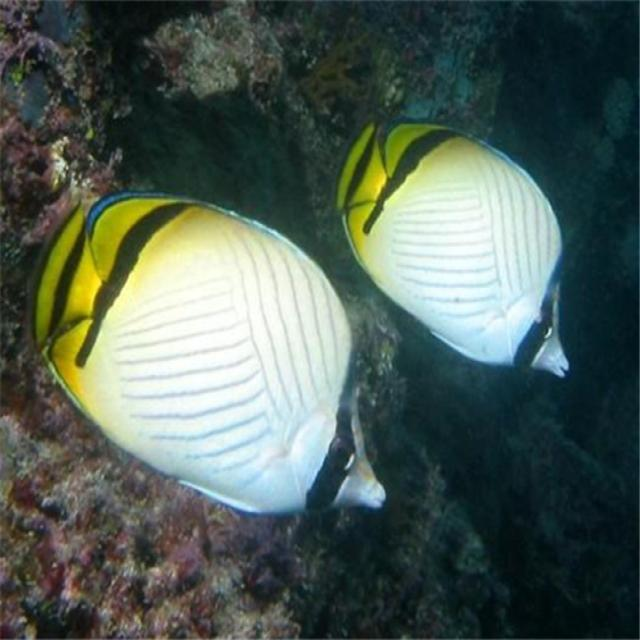ButterflyFish: (35, 188, 388, 520), (335, 112, 572, 384)
